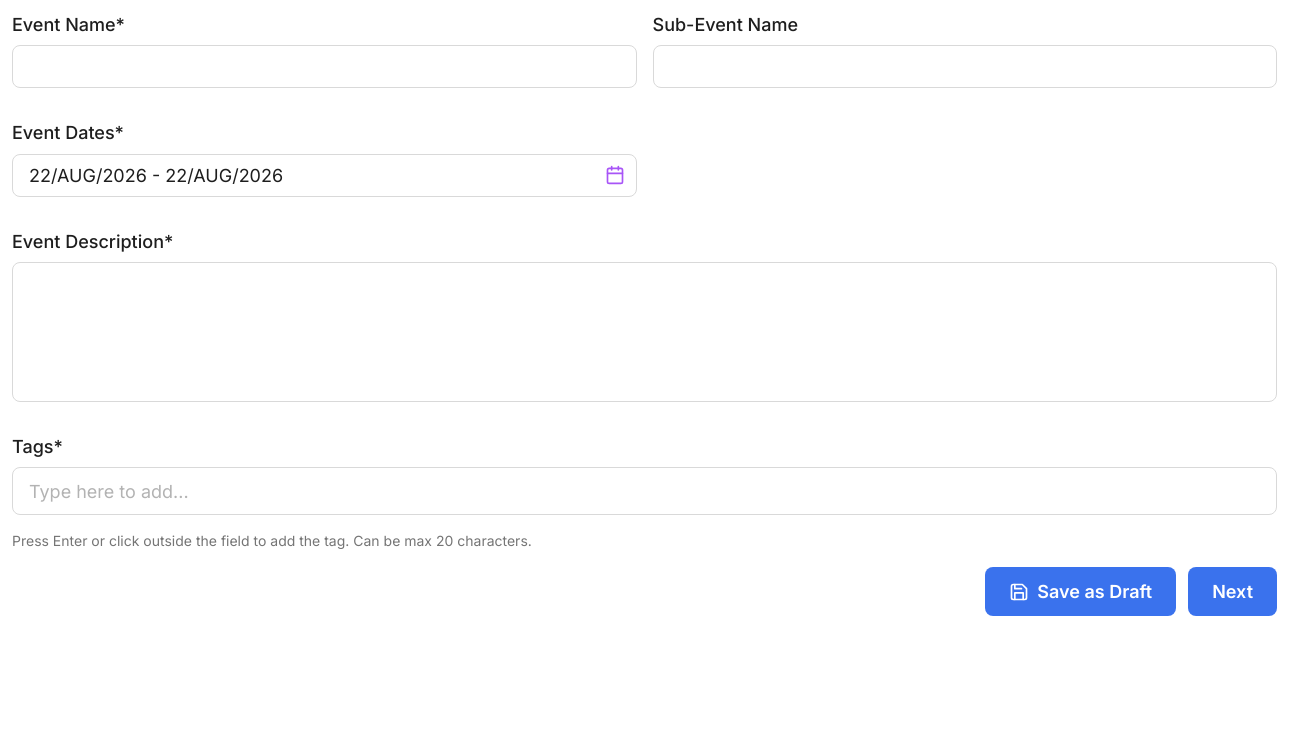
Test: OrchestrationAddEventModalStepOne › shows 'Event Name is required' on Next click with empty form
Click the button "Next": (1233, 592) [1188,567,1277,616]
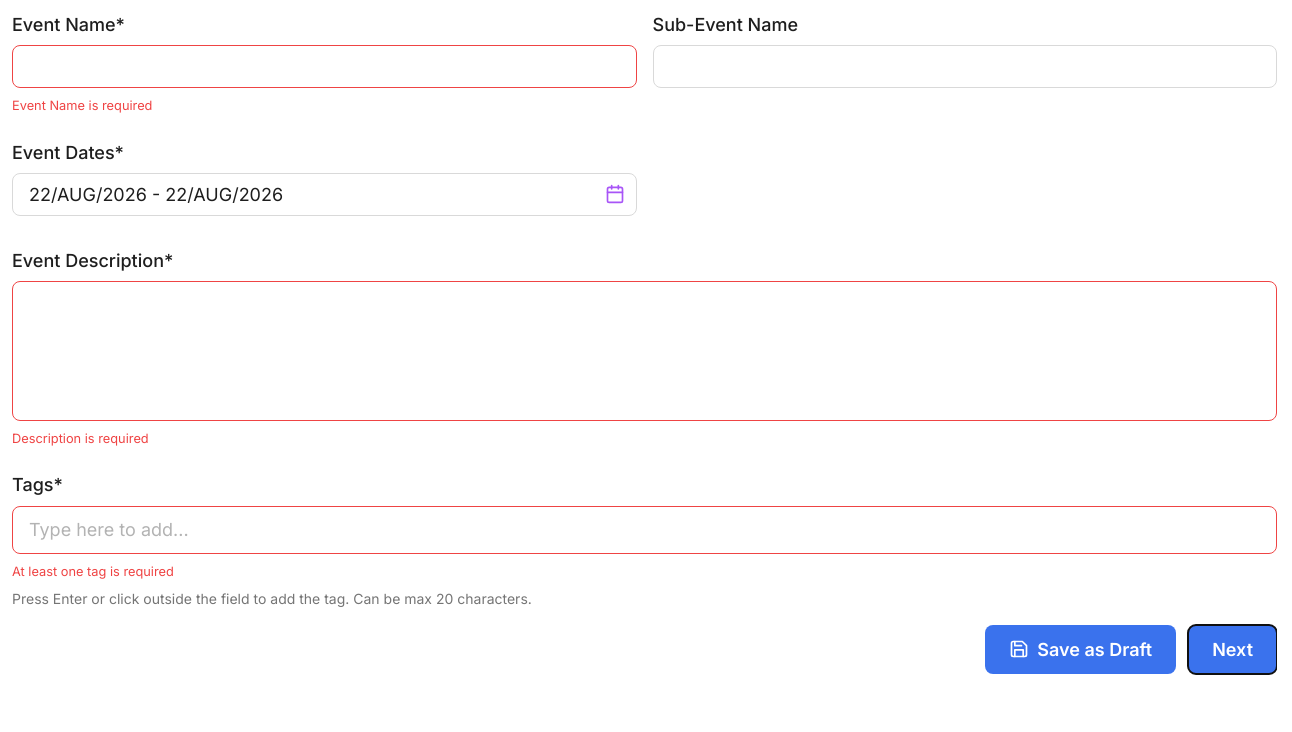
Check: the text "Event Name is required" is shown, box [12,98,152,113]
